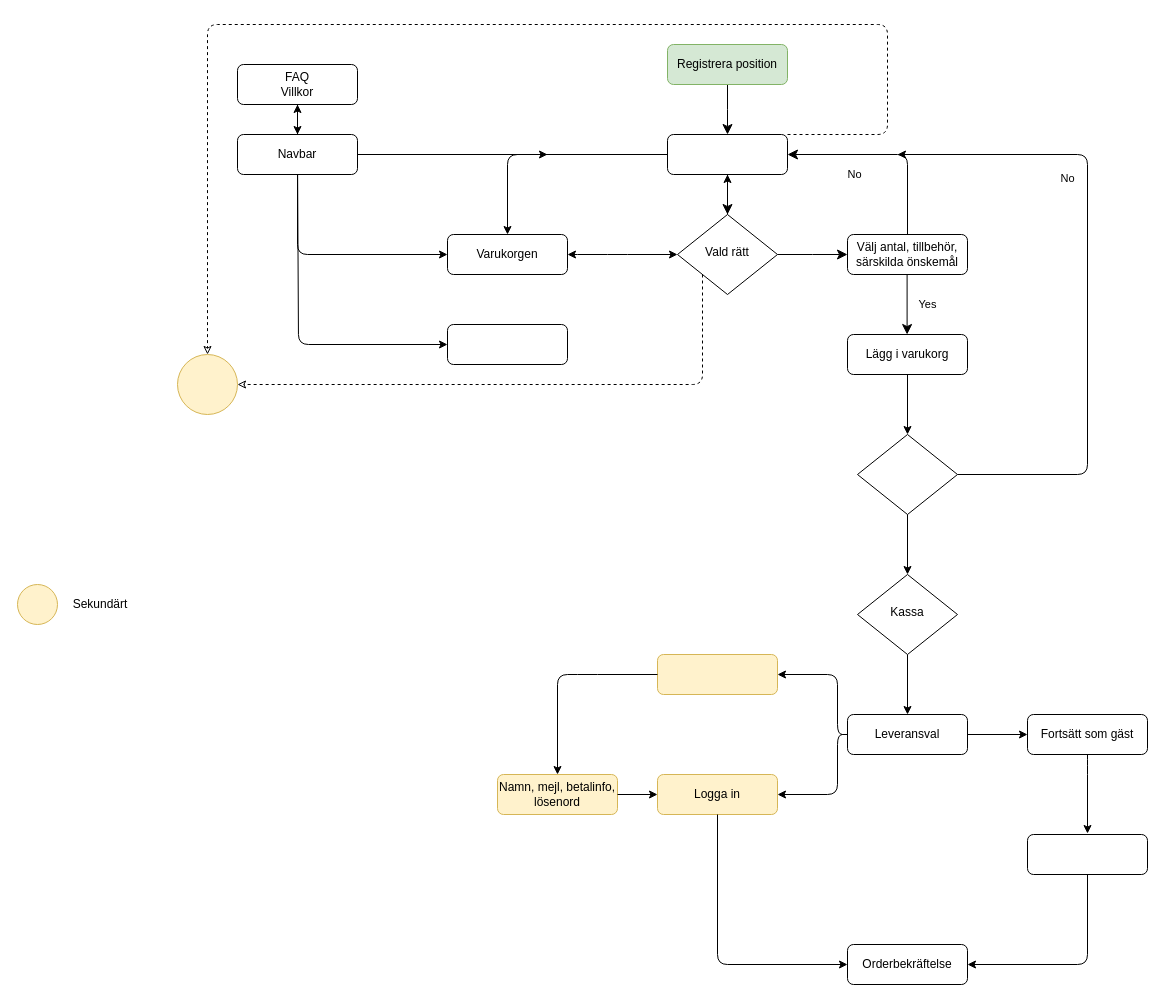
The diagram is 1165 pixels wide and 1002 high, and some of its shapes have lost their labels. Here are the shapes that lost their labels. From the top down, the centre of each, then its label:
At pixel 727 154: "Utforska menyn".
At pixel 507 344: "Favoriter".
At pixel 207 384: "Ange favorit".
At pixel 907 474: "Bekräftelse".
At pixel 717 674: "Skapa konto".
At pixel 1087 854: "Namn, mejl, betalinfo".
